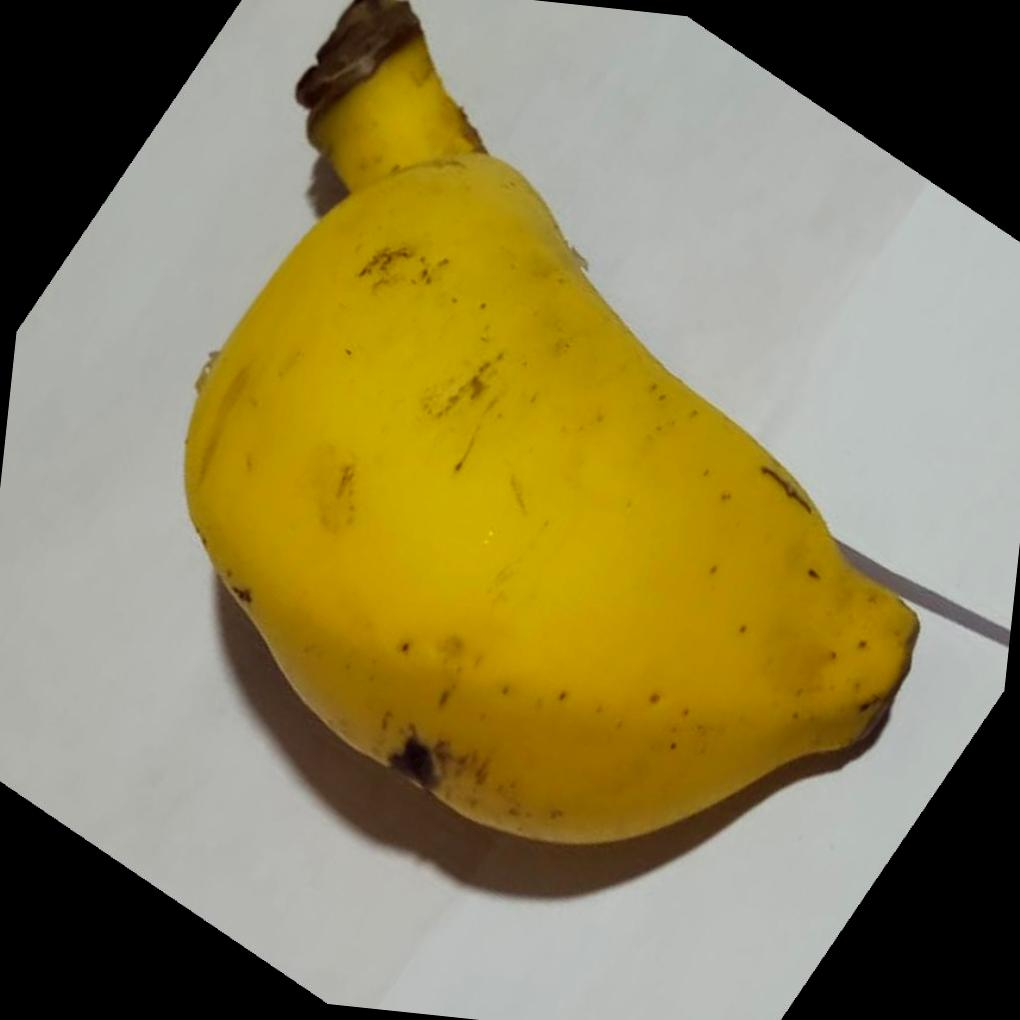Banana Ripe: (140, 0, 989, 897)
